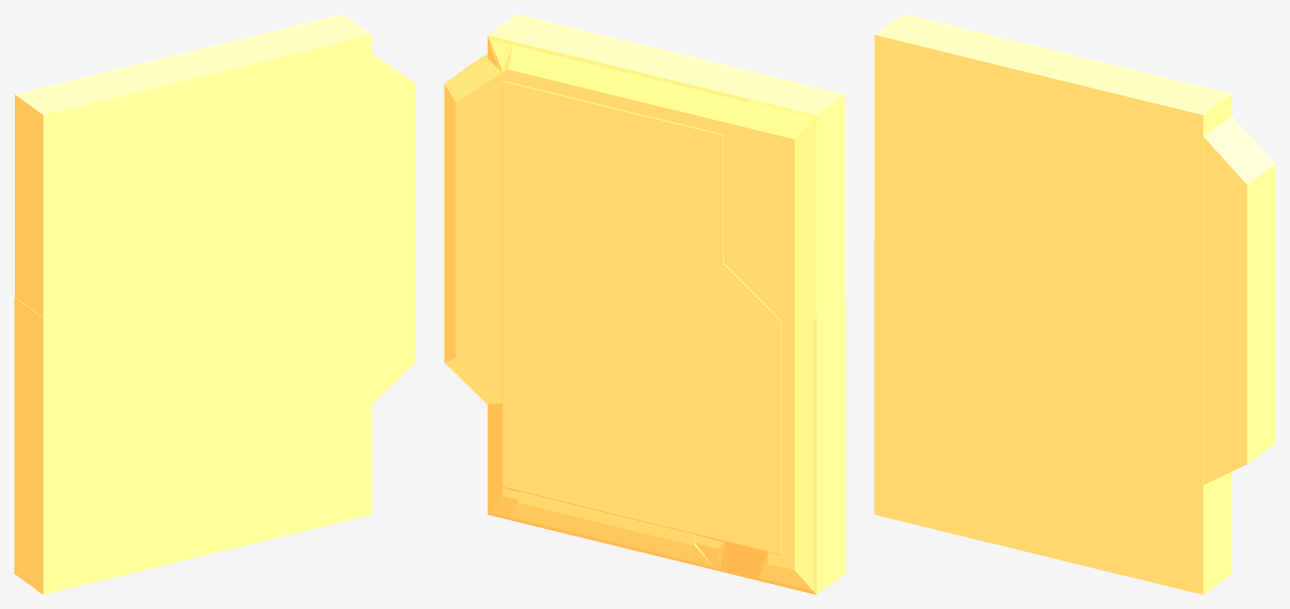
File: chips.fbx
3 renders of one model, left to right at view 1: azimuth 30°, elevation 25°; view 2: azimuth 150°, elevation 25°; view 3: azimuth 330°, elevation 25°, orthographic.
Parts seen in each view (by area): view 1: chip1, susChip, chip2; view 2: chip1, susChip, chip2; view 3: chip1, susChip, chip2.
Part boxes in pixels (<box>): chip1: <box>14,14,372,594</box>; susChip: <box>15,20,415,404</box>; chip2: <box>15,14,356,317</box>; chip1: <box>487,14,845,594</box>; susChip: <box>444,26,844,591</box>; chip2: <box>489,14,844,568</box>; chip1: <box>874,30,1232,594</box>; susChip: <box>874,14,1275,484</box>; chip2: <box>875,14,1230,237</box>.
Bounding box in the file's own units: 1.63 × 2 × 0.2583.
